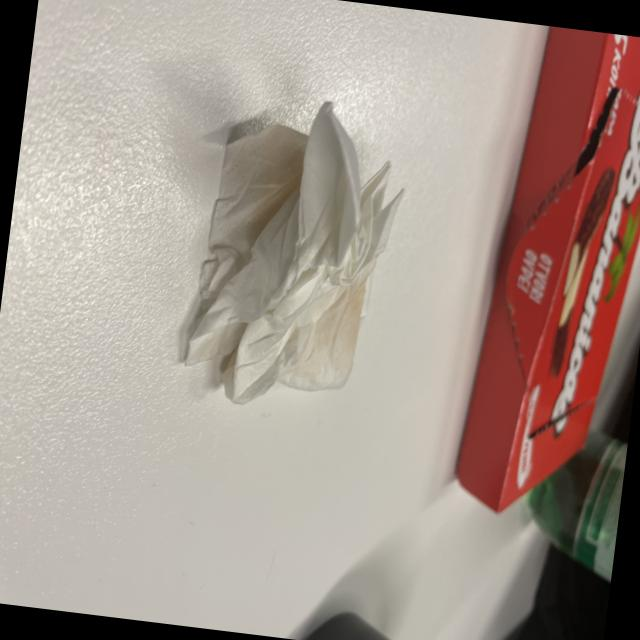organic waste: (169, 84, 416, 420)
